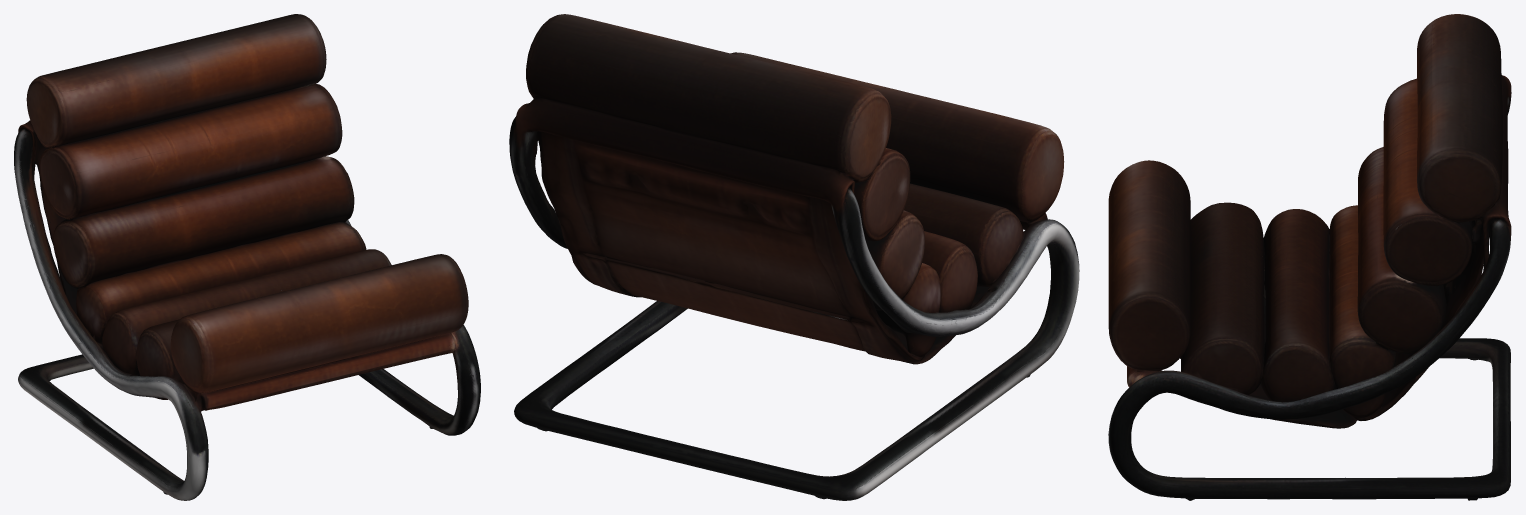
File: rollingchair.glb
3 views of the same model, side by side, from view 1: azimuth 30°, elevation 25°; view 2: azimuth 150°, elevation 25°; view 3: azimuth 270°, elevation 25° (orthographic). The views are drawn at different scales.
Parts seen in each view (by area): view 1: world; view 2: world; view 3: world.
Boxes of the visible parts, bbox=[...] form: world: bbox=[14, 14, 480, 500]; world: bbox=[509, 14, 1079, 500]; world: bbox=[1108, 14, 1511, 500].
Size of the model in its own units: 0.9328 by 0.9523 by 0.9995.
Materials: 1 (1 with a texture image).
